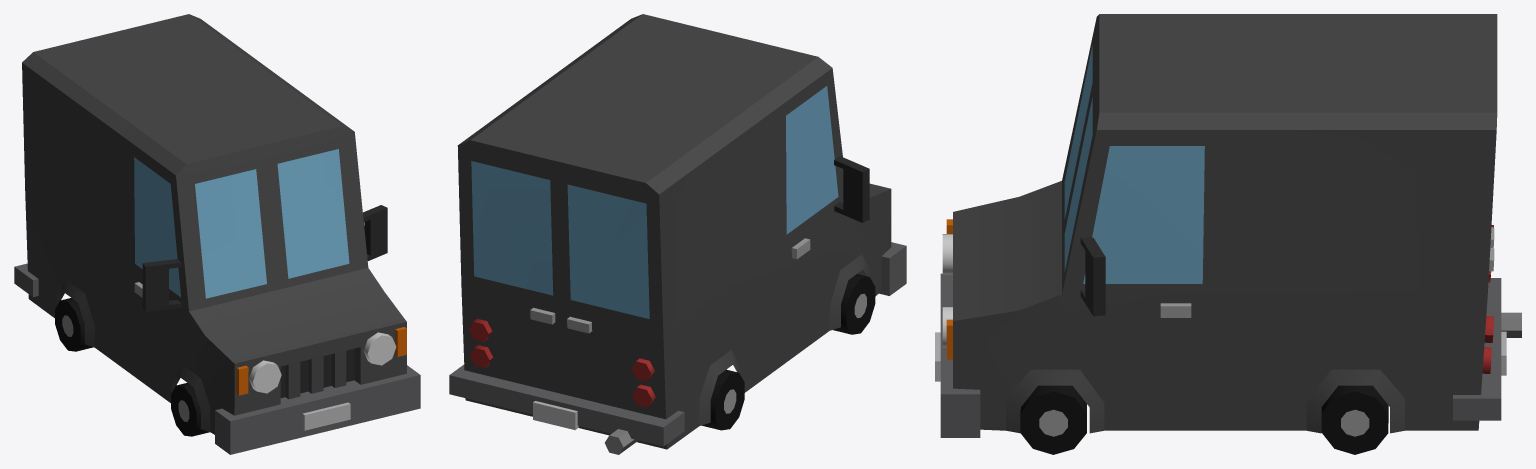
The model's file is Car_07_gray.fbx.
3 views of the same model, side by side, from view 1: azimuth 30°, elevation 25°; view 2: azimuth 150°, elevation 25°; view 3: azimuth 270°, elevation 25° (orthographic). The views are drawn at different scales.
Visible parts, largest first — view 1: Car_07_gray; view 2: Car_07_gray; view 3: Car_07_gray.
Boxes of the visible parts, left/top/right/bottom form: Car_07_gray: left=14, top=14, right=420, bottom=454; Car_07_gray: left=449, top=14, right=906, bottom=454; Car_07_gray: left=935, top=14, right=1521, bottom=454.
Bounding box in the file's own units: 65.22 × 65.28 × 105.
